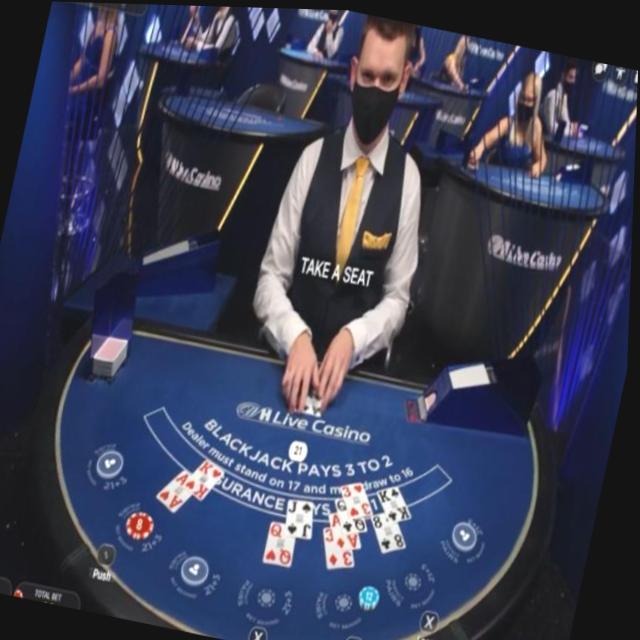Card-3: (327, 524, 358, 564), (343, 480, 376, 516)
Card-8: (374, 509, 410, 550)
Card-A: (160, 468, 196, 511), (332, 509, 365, 549), (301, 388, 325, 414)
Card-J: (288, 497, 317, 536)
Card-K: (189, 457, 228, 500), (380, 484, 414, 521)
Card-Q: (267, 519, 299, 563), (338, 495, 371, 531)
